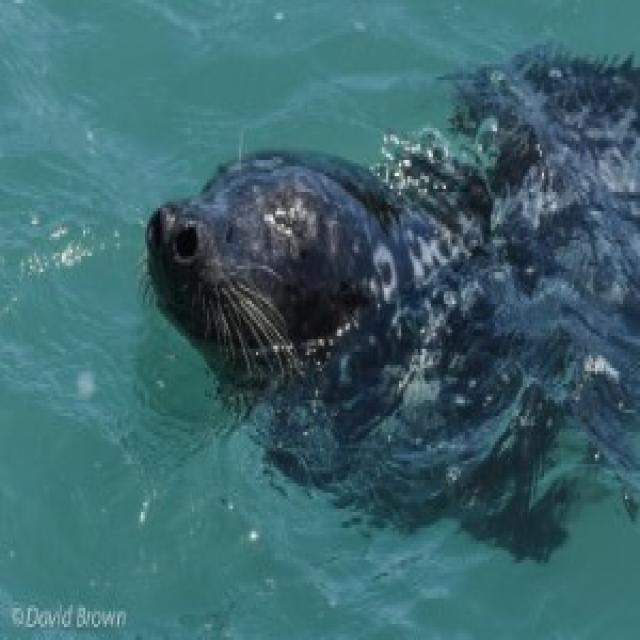Seal: (119, 133, 537, 495)
